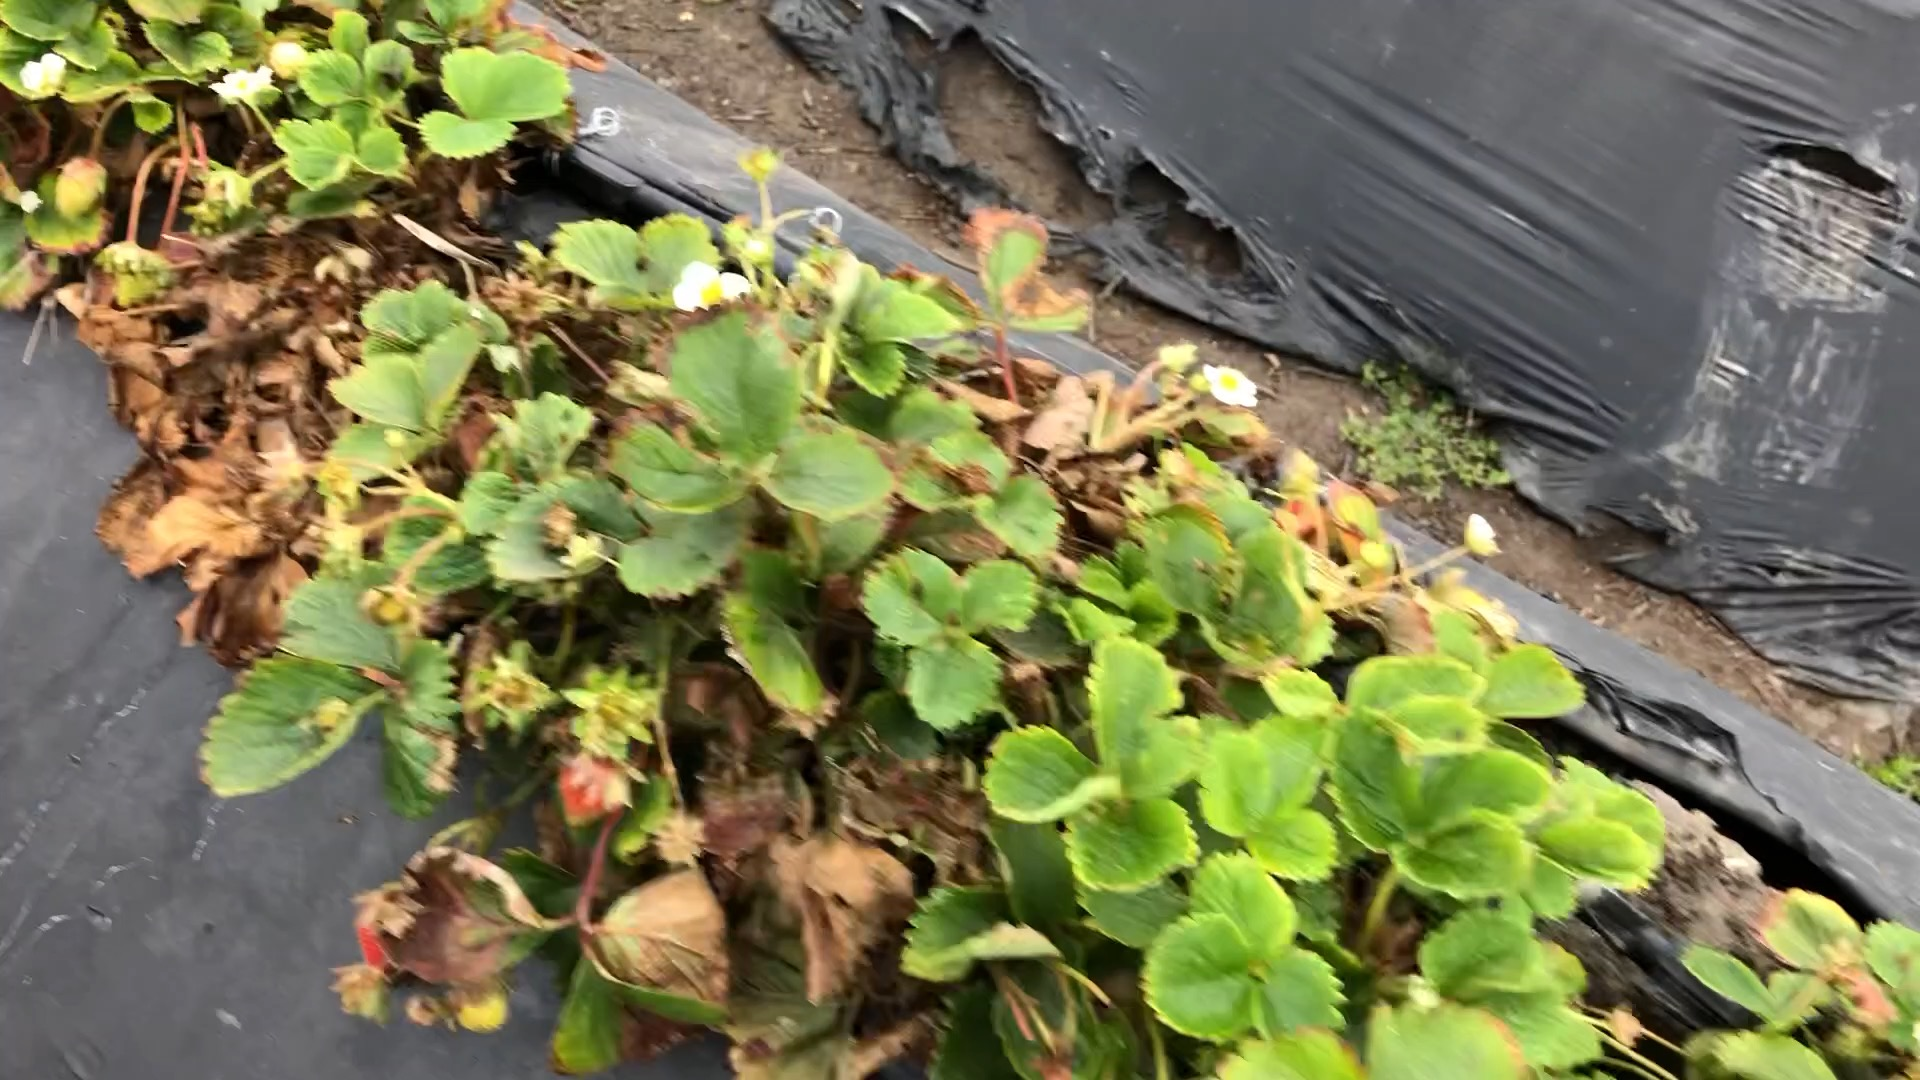ripe_strawberry: (353, 916, 388, 971)
unripe_strawberry: (553, 750, 628, 835), (53, 156, 113, 224), (454, 982, 516, 1033)
